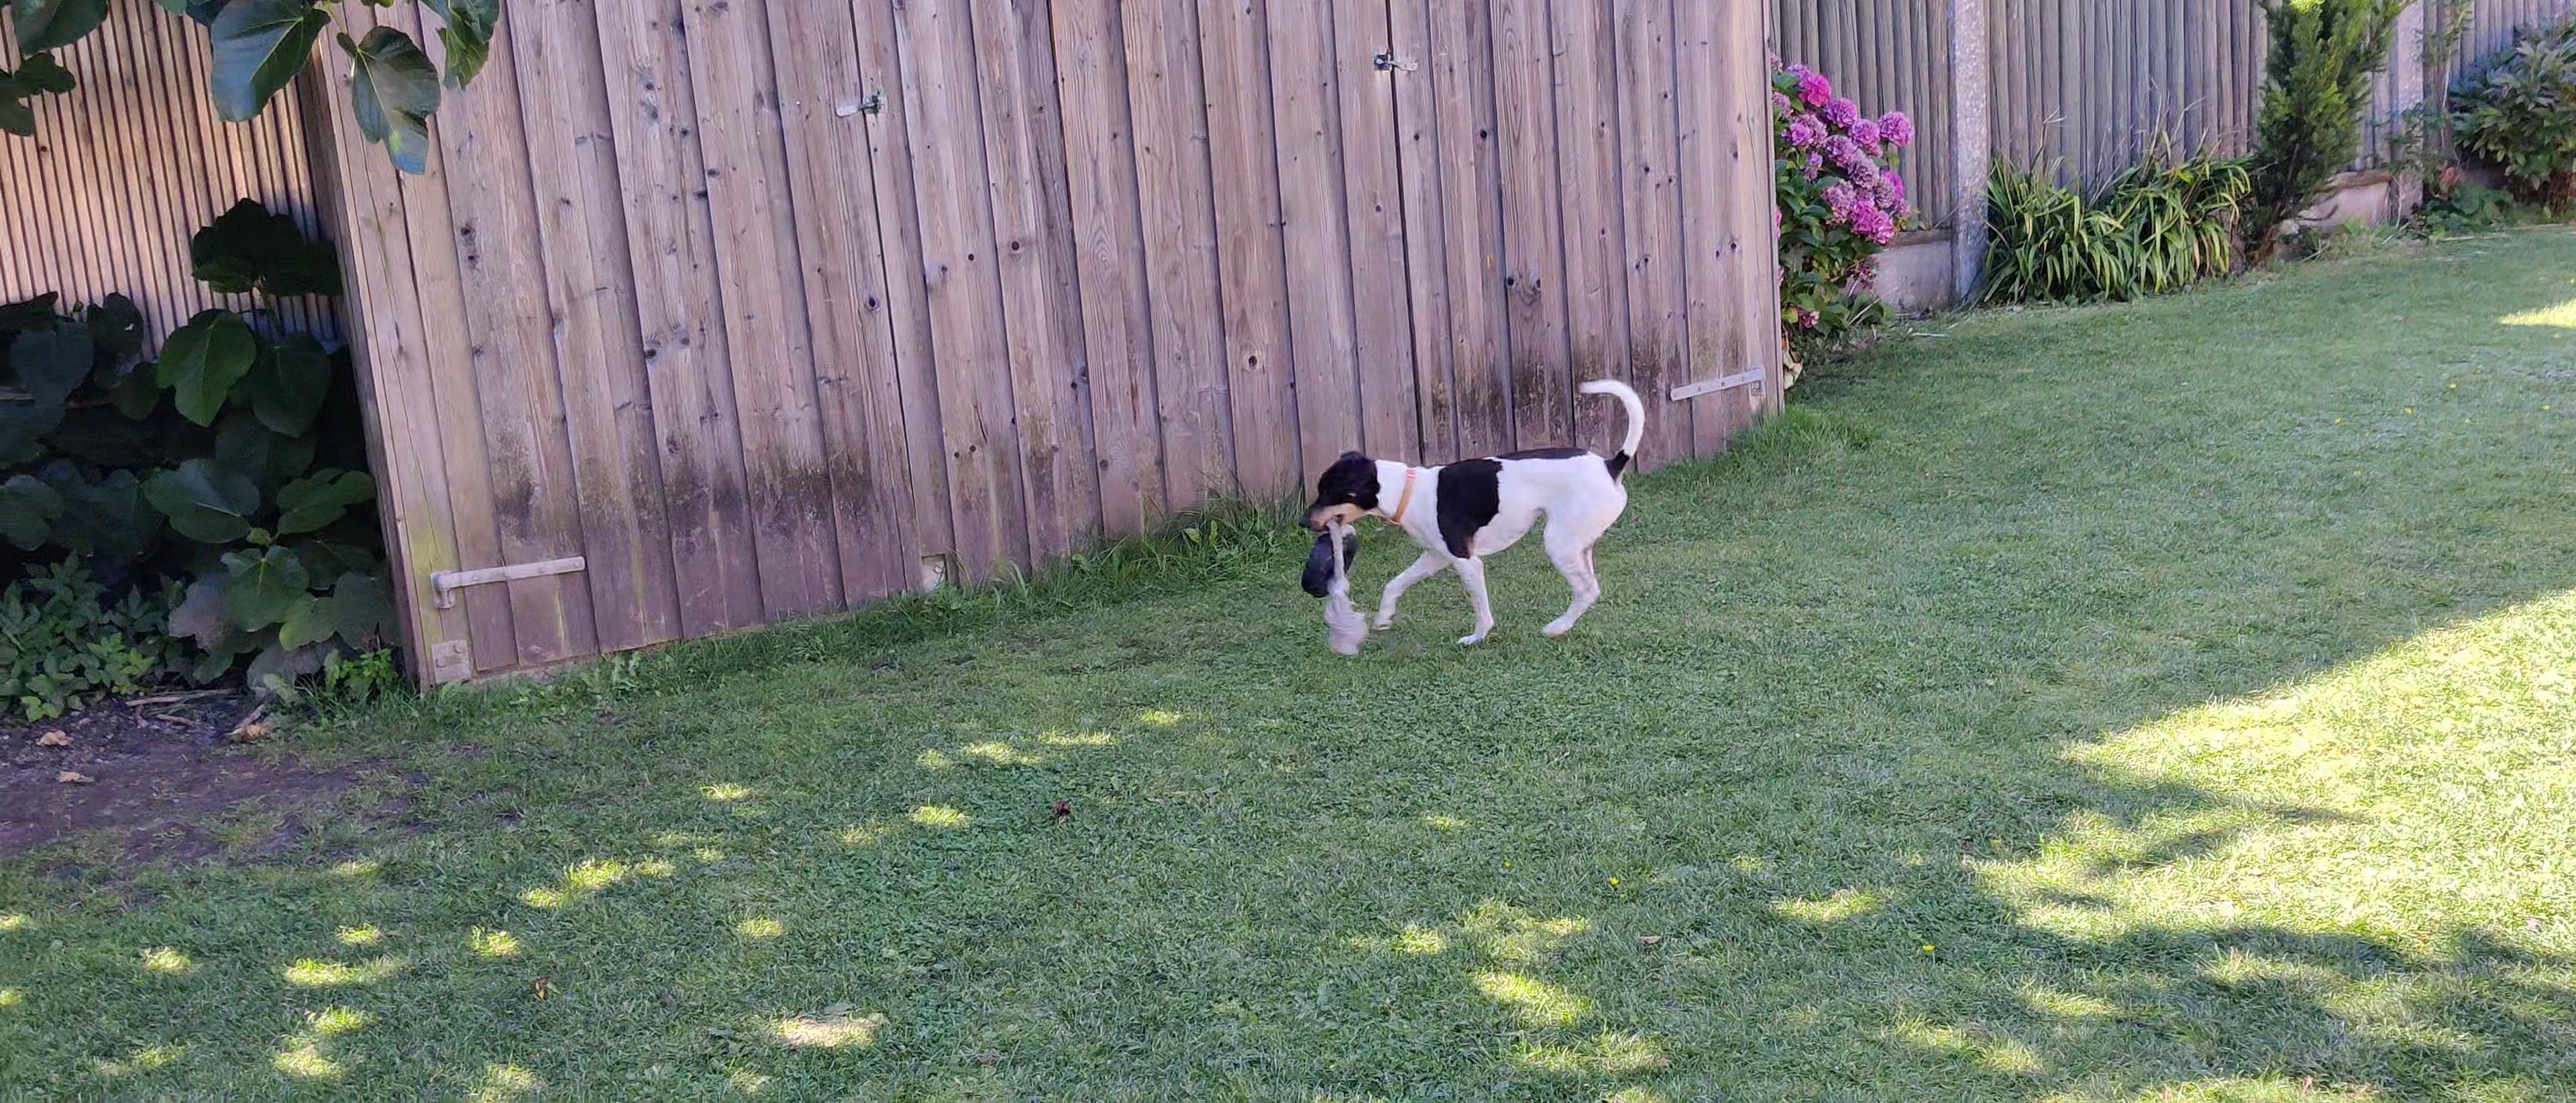Dog: (1291, 375, 1649, 648)
